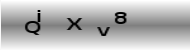8: (113, 10, 128, 25)
Q: (24, 20, 41, 36)
X: (66, 16, 83, 31)
i: (36, 8, 41, 22)
v: (95, 26, 111, 37)
